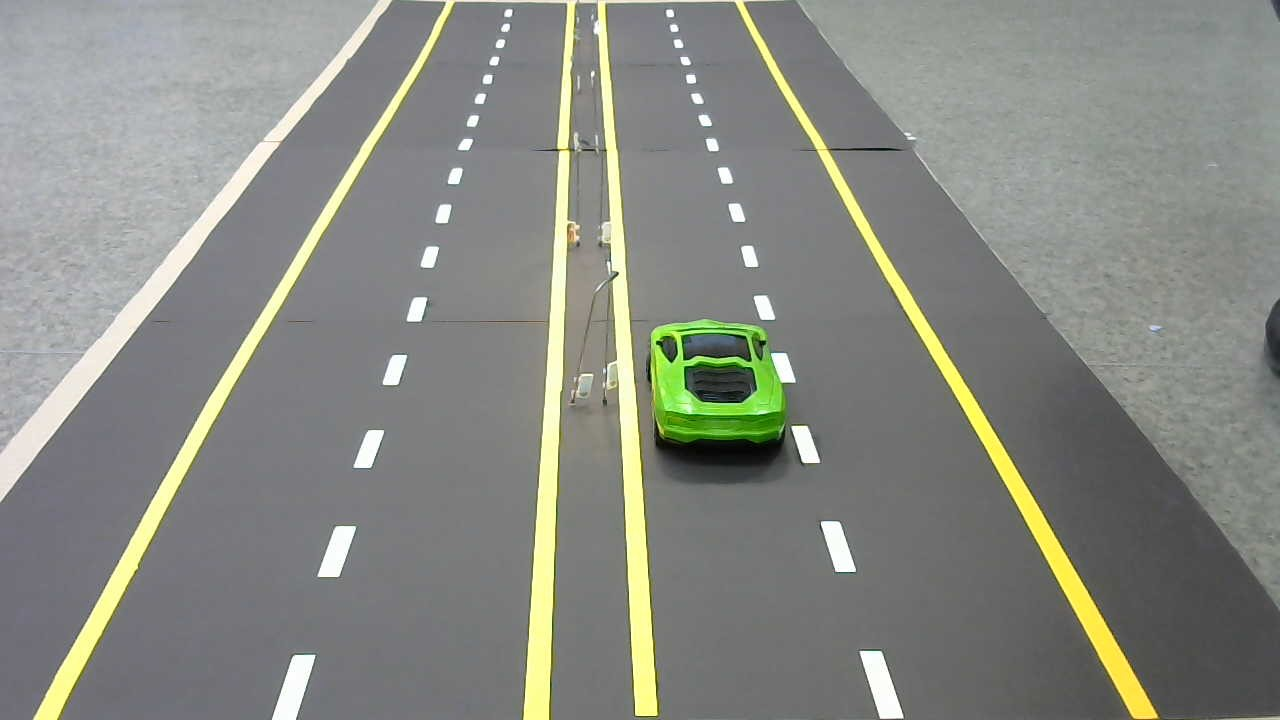back_car: (641, 314, 800, 456)
